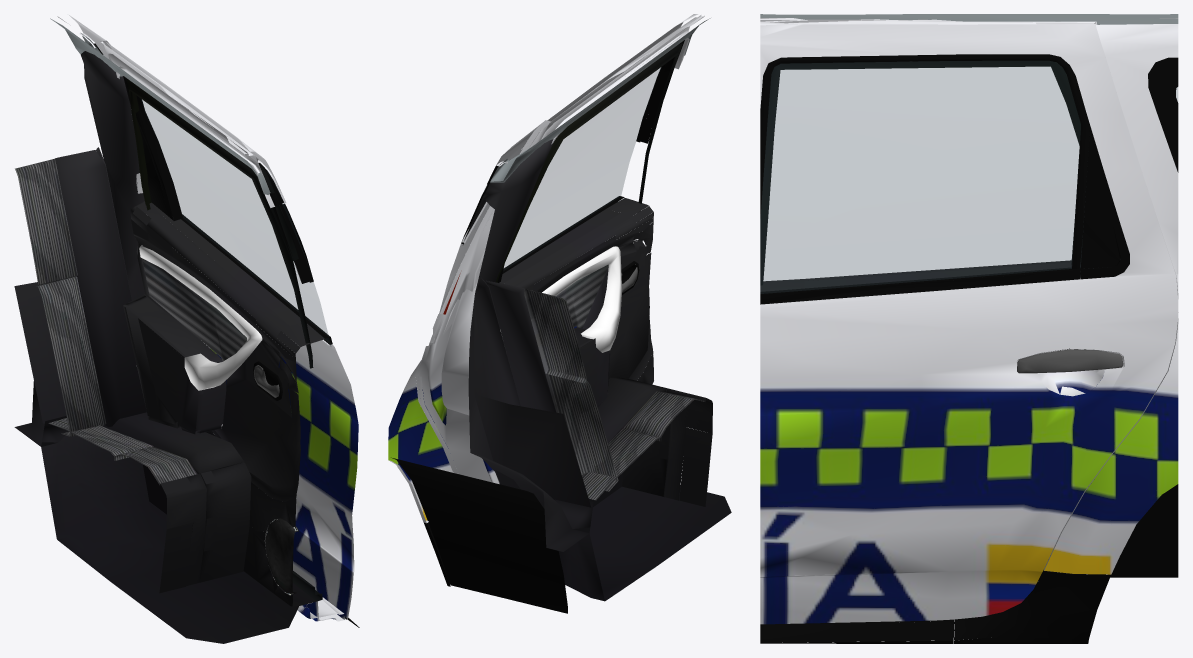
File: patrulla_doorRL.glb
3 views of the same model, side by side, from view 1: azimuth 30°, elevation 25°; view 2: azimuth 150°, elevation 25°; view 3: azimuth 270°, elevation 25° (orthographic). The views are drawn at different scales.
Parts seen in each view (by area): view 1: patrulla_doorRL; view 2: patrulla_doorRL; view 3: patrulla_doorRL.
Part boxes in pixels (x1,y1,x2,y2): patrulla_doorRL: (14, 15, 359, 643); patrulla_doorRL: (388, 14, 731, 613); patrulla_doorRL: (760, 14, 1178, 643).
Size of the model in its own units: 0.4458 by 1.2 by 0.8072.
7 materials, 3 textured.
